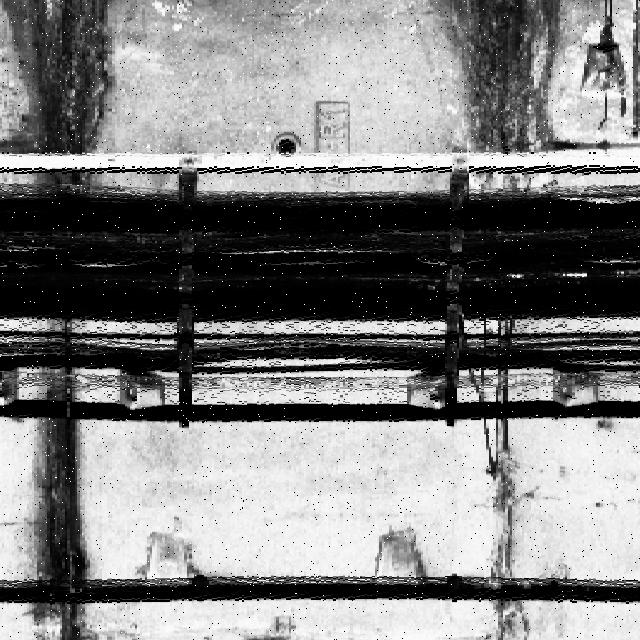leakage: (428, 0, 577, 195), (22, 317, 99, 639), (0, 0, 123, 188), (483, 405, 535, 639)
